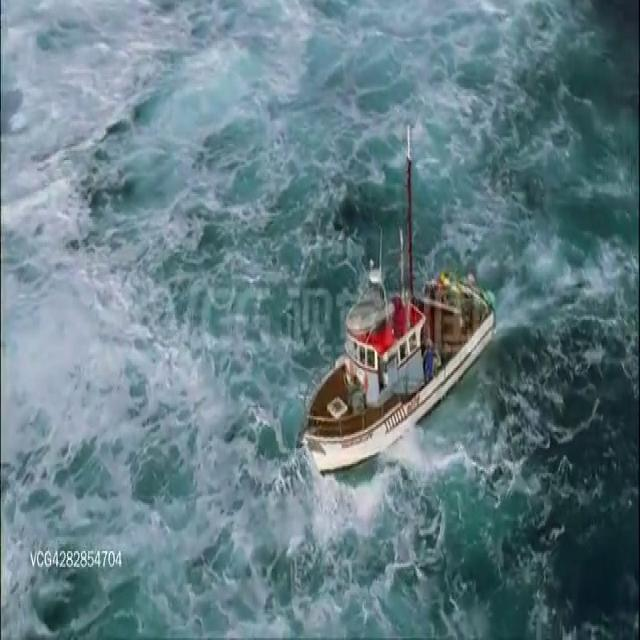houseboat: (299, 247, 493, 466)
